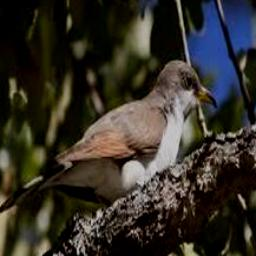Cuckoo: (0, 59, 218, 216)
